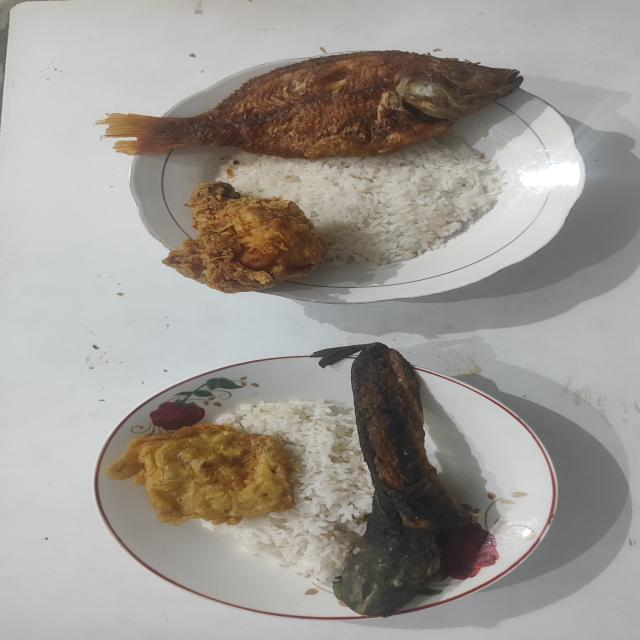ikan_mujair: (98, 50, 522, 160)
nasi_putih: (220, 140, 508, 271), (215, 400, 374, 584)
